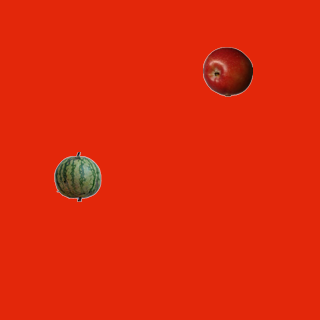Apple Braeburn: (202, 46, 252, 96)
Watermelon: (52, 151, 102, 201)
